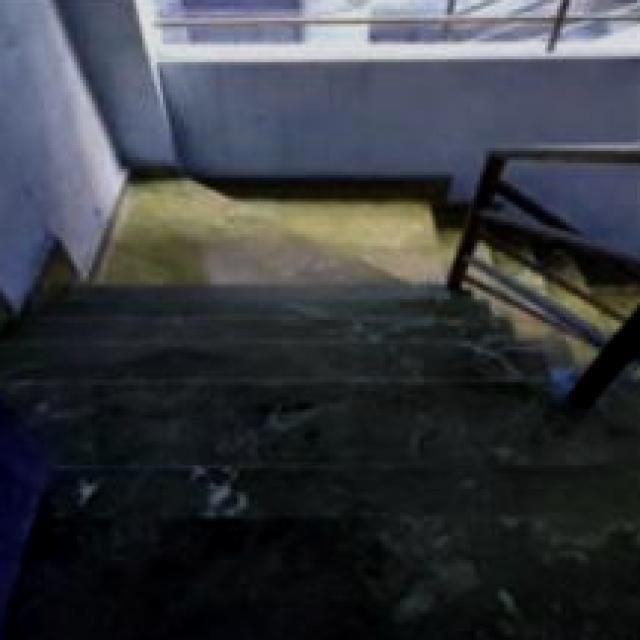downstair: (48, 324, 508, 597)
